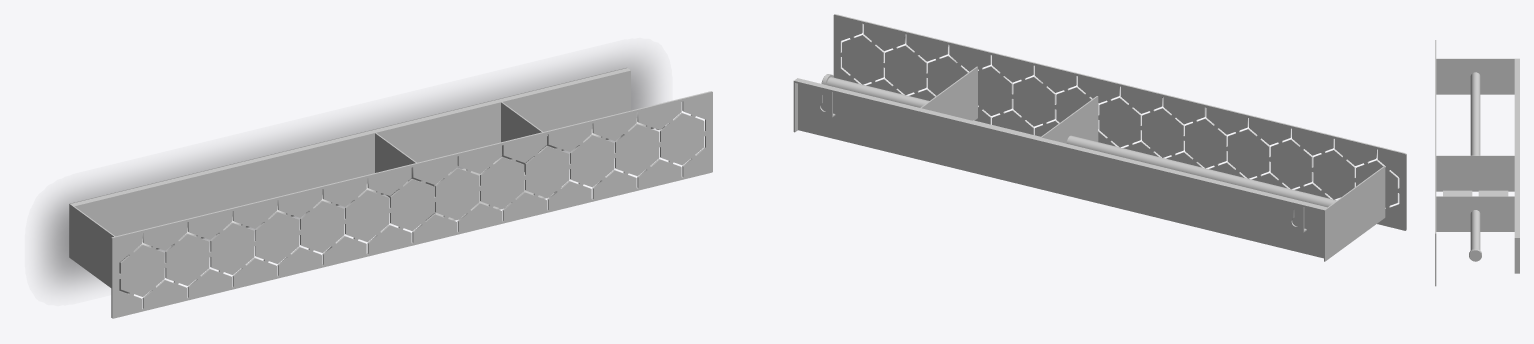
File: bee-trio.232e9b7842.ar.glb
3 views of the same model, side by side, from view 1: azimuth 30°, elevation 25°; view 2: azimuth 150°, elevation 25°; view 3: azimuth 270°, elevation 25° (orthographic). The views are drawn at different scales.
Visible parts, largest first — view 1: NAUO1, object 2; view 2: NAUO1; view 3: NAUO1.
Part boxes in pixels (x1,y1,x2,y2): NAUO1: [69, 67, 712, 318]; object 2: [41, 57, 656, 286]; NAUO1: [793, 14, 1406, 261]; NAUO1: [1435, 40, 1519, 286].
Size of the model in its own units: 0.78 by 0.17 by 0.13.
Materials: 2 (1 with a texture image).
